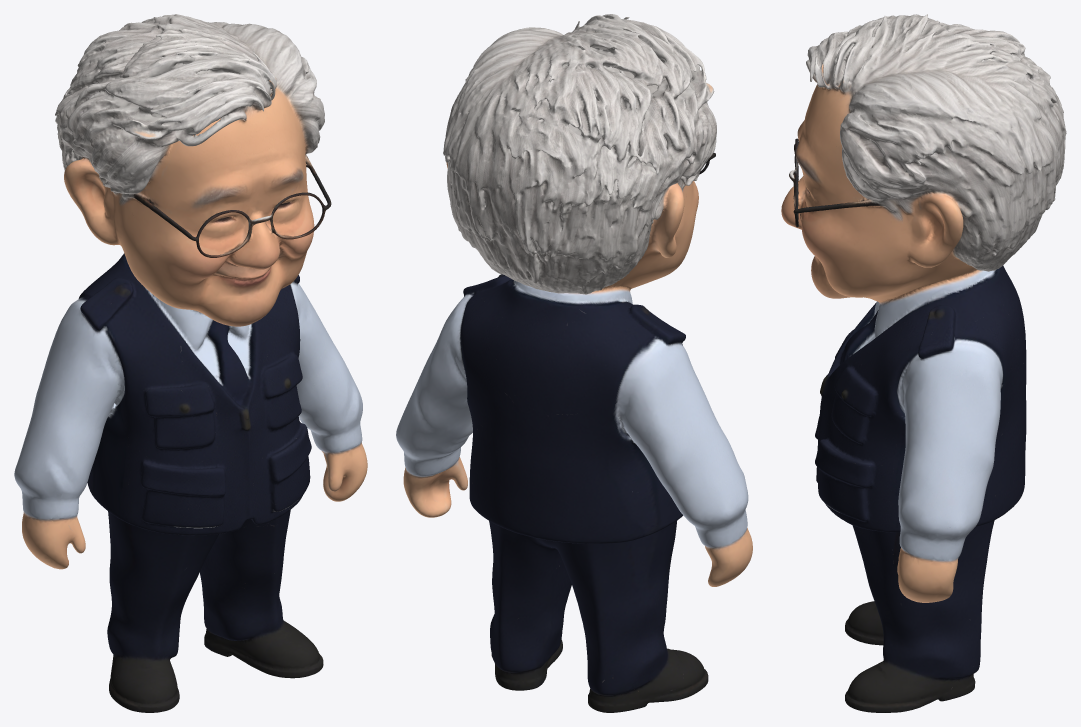
File: night-guard-meshy-source.glb
3 renders of one model, left to right at view 1: azimuth 30°, elevation 25°; view 2: azimuth 150°, elevation 25°; view 3: azimuth 270°, elevation 25°, orthographic.
Size of the model in its own units: 1.04 by 1.9 by 0.7729.
Materials: 1 (1 with a texture image).
